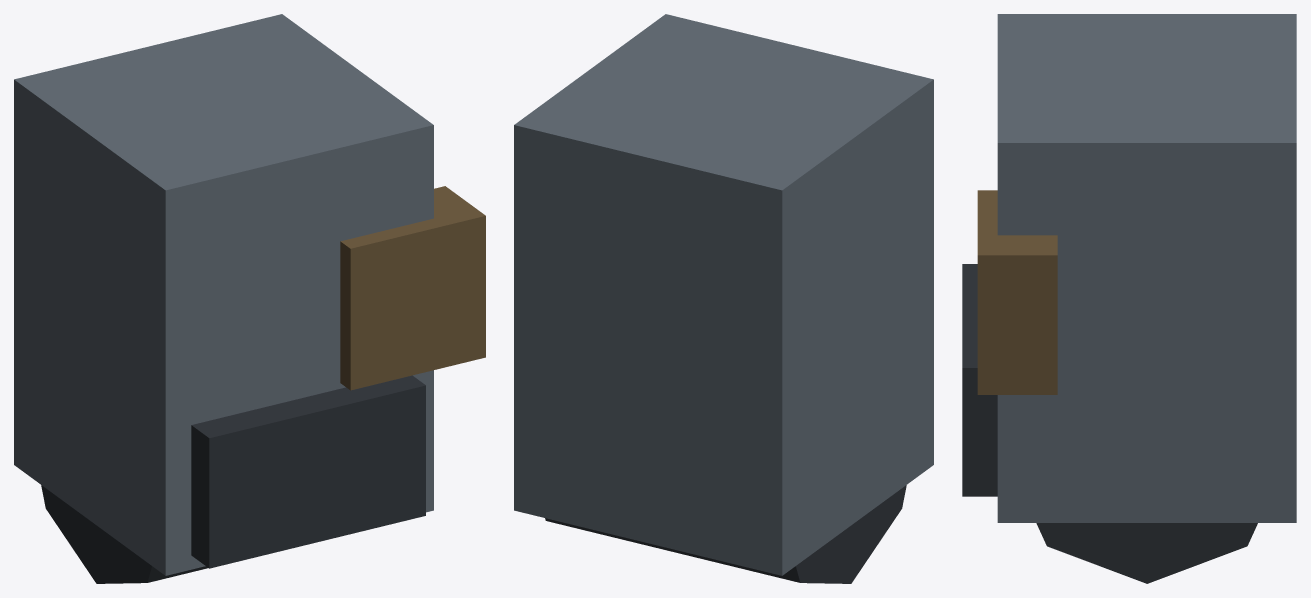
File: pc_k9_upper_leg.fbx
3 views of the same model, side by side, from view 1: azimuth 30°, elevation 25°; view 2: azimuth 150°, elevation 25°; view 3: azimuth 270°, elevation 25° (orthographic).
Visible parts, largest first — view 1: pc_k9_upper_leg; view 2: pc_k9_upper_leg; view 3: pc_k9_upper_leg.
Part boxes in pixels (<box>): pc_k9_upper_leg: <box>14,14,485,583</box>; pc_k9_upper_leg: <box>514,14,933,583</box>; pc_k9_upper_leg: <box>962,14,1296,583</box>.
Bounding box in the file's own units: 114 × 159 × 109.
